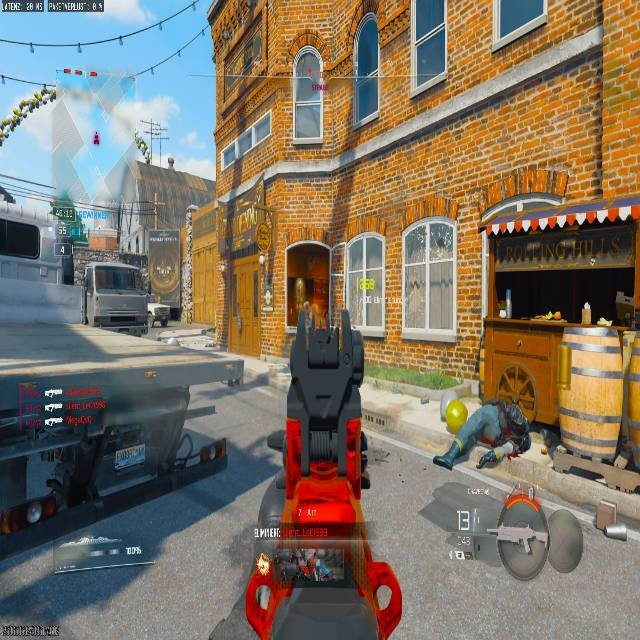head: (495, 364, 537, 417)
player: (434, 368, 555, 472)
